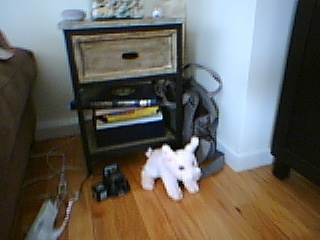piggy: (139, 135, 204, 200)
